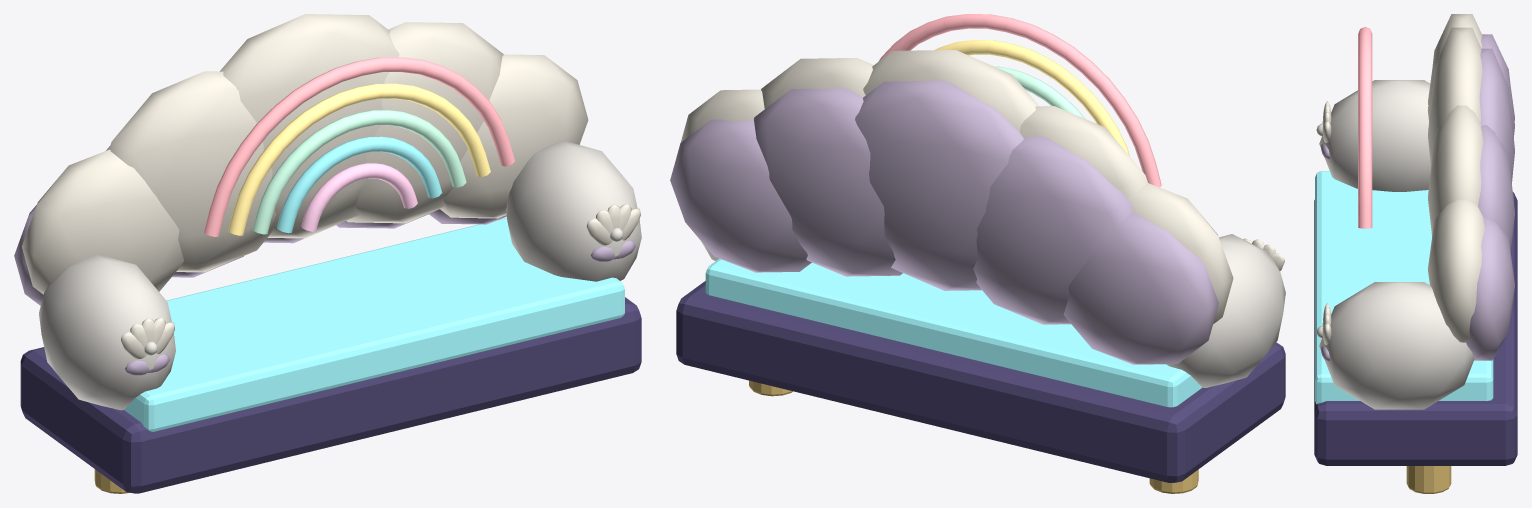
The model's file is pearl_cloud_settee.glb.
The picture shows the model from 3 angles, left to right: view 1: azimuth 30°, elevation 25°; view 2: azimuth 150°, elevation 25°; view 3: azimuth 270°, elevation 25°; orthographic projection. The views are drawn at different scales.
Parts seen in each view (by area): view 1: pearl_cloud_settee.001; view 2: pearl_cloud_settee.001; view 3: pearl_cloud_settee.001.
Part boxes in pixels (left/top/right/bottom): pearl_cloud_settee.001: left=14, top=14, right=641, bottom=493; pearl_cloud_settee.001: left=670, top=14, right=1285, bottom=493; pearl_cloud_settee.001: left=1314, top=14, right=1517, bottom=493.
Size of the model in its own units: 9.91 by 6.77 by 3.45.
